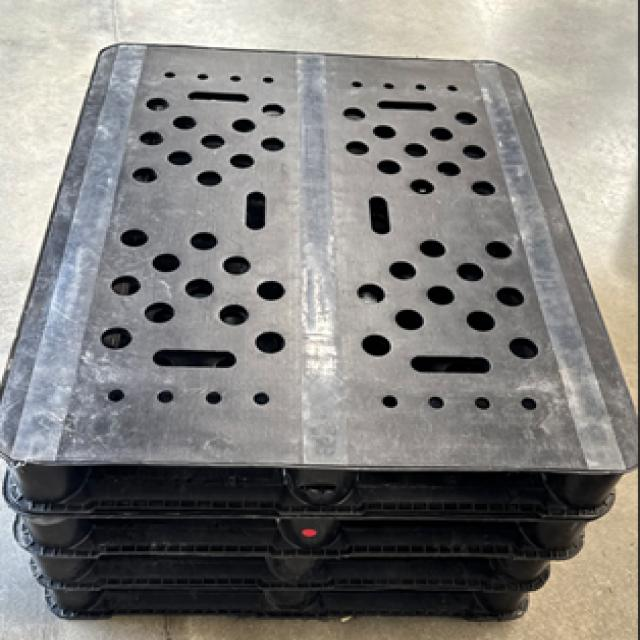igps: (0, 40, 638, 622)
